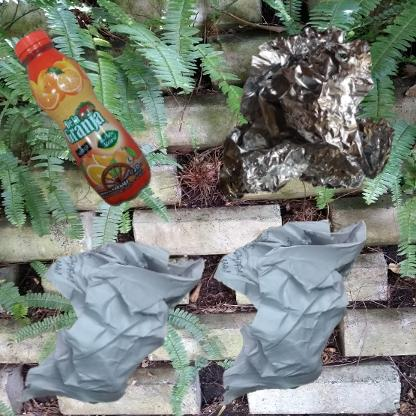aluminio: (213, 10, 416, 236)
botella: (10, 10, 188, 269)
papel: (10, 213, 222, 416), (213, 213, 367, 406)
